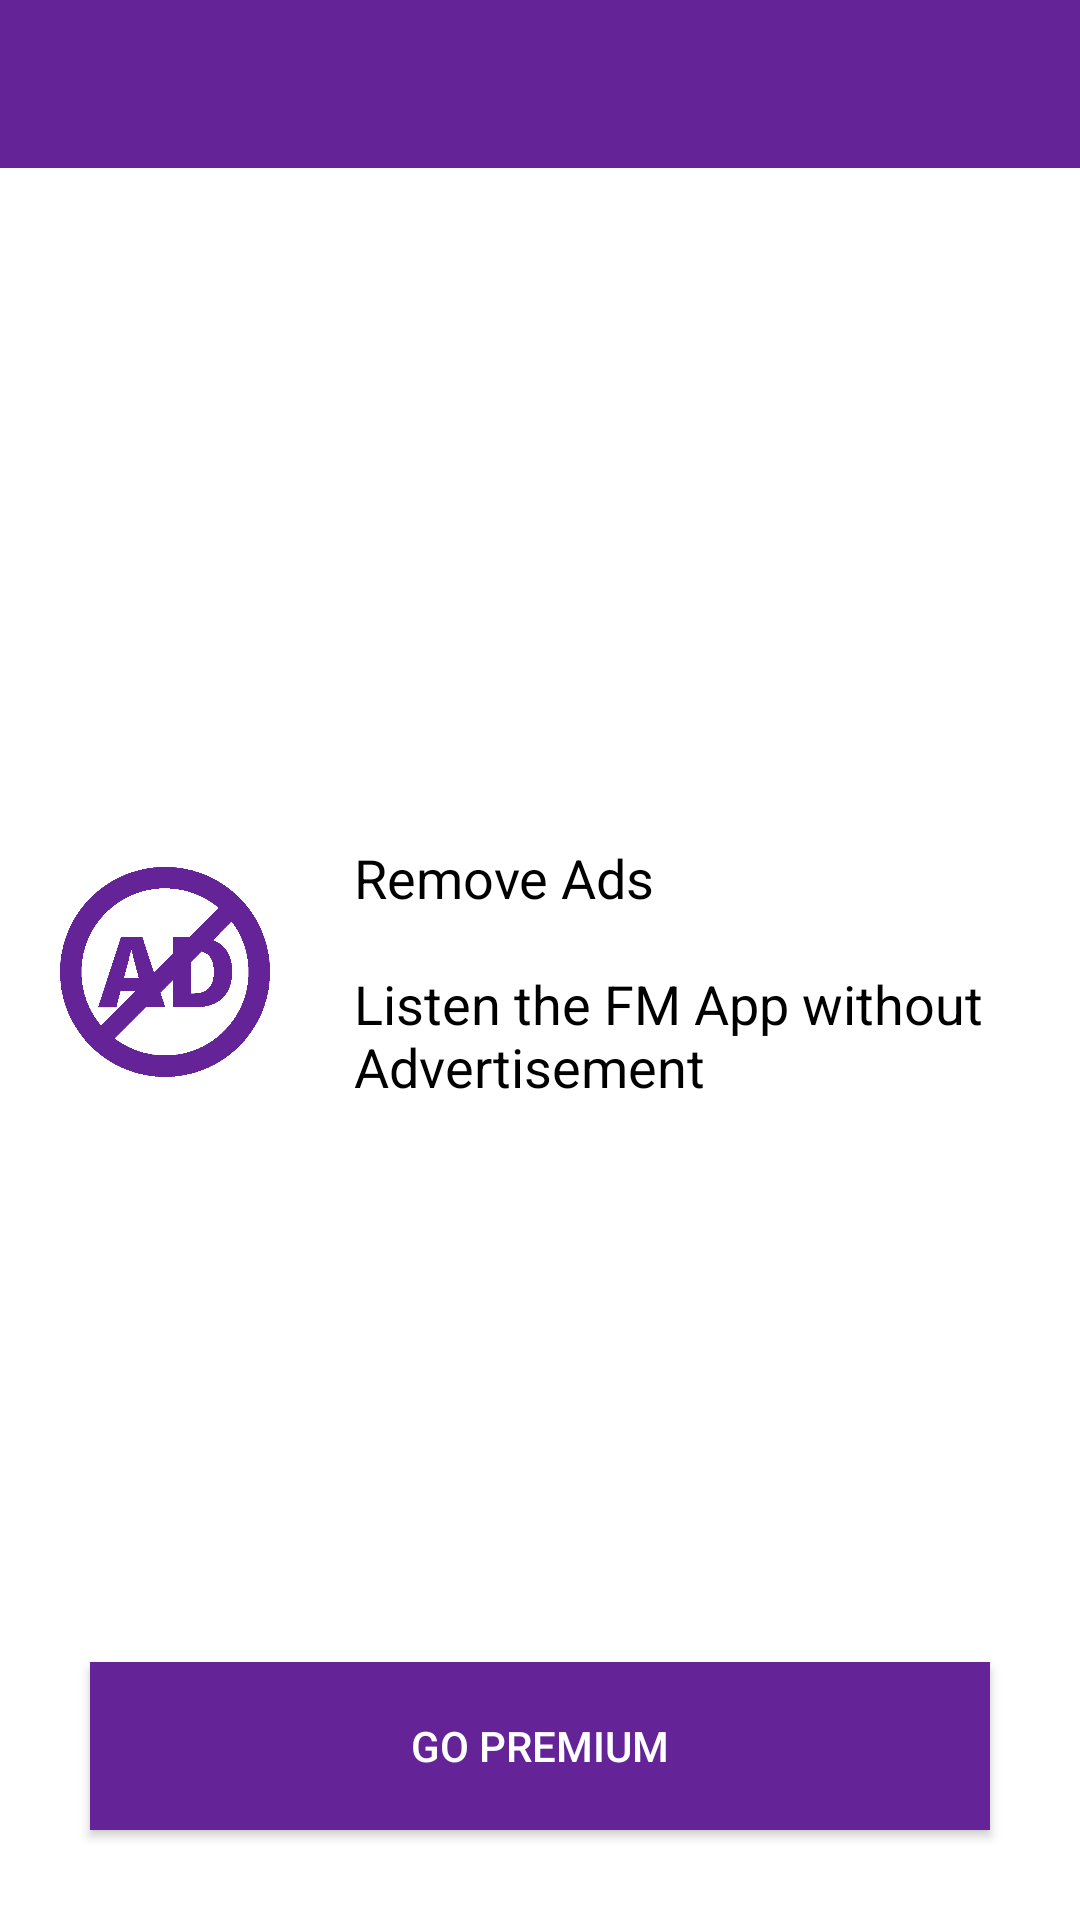

Icon bounding boxes for this 1080×1920 phone screenshot, format BBox(x1, y1, x2, y2):
ad free: BBox(60, 867, 270, 1077)
